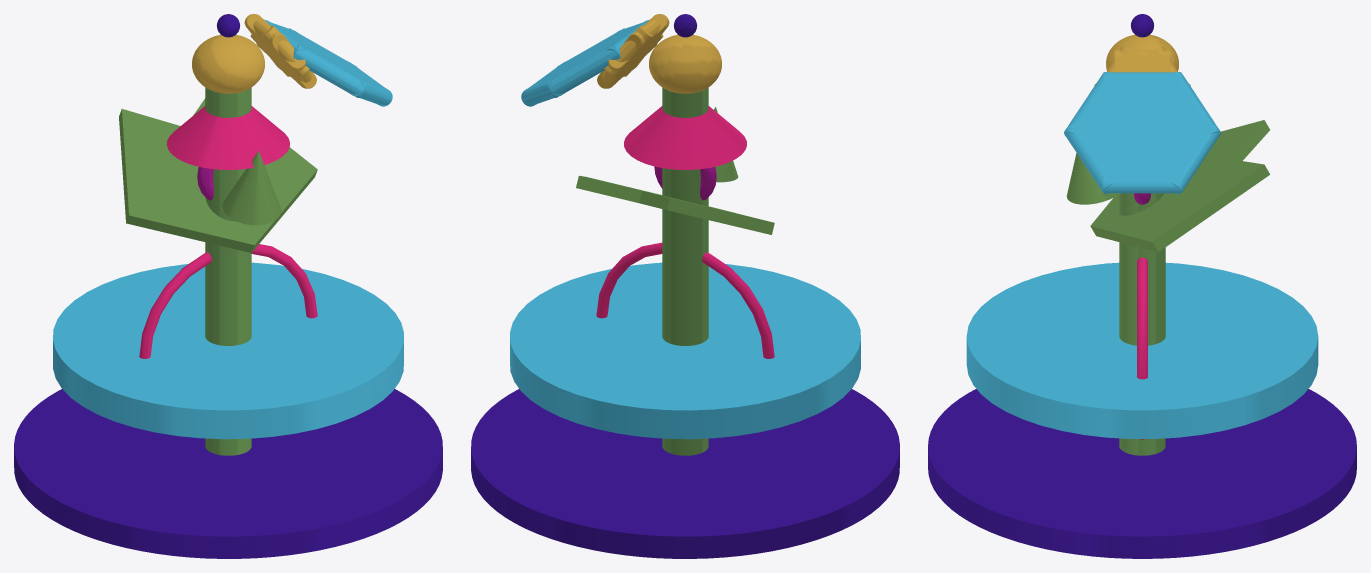
The model's file is 0092_植物图鉴_蔷薇.glb.
The picture shows the model from 3 angles, left to right: view 1: azimuth 30°, elevation 25°; view 2: azimuth 150°, elevation 25°; view 3: azimuth 270°, elevation 25°; orthographic projection.
Parts seen in each view (by area): view 1: card_0092; view 2: card_0092; view 3: card_0092.
Boxes of the visible parts, bbox=[...] form: card_0092: bbox=[14, 14, 442, 558]; card_0092: bbox=[471, 14, 899, 558]; card_0092: bbox=[928, 14, 1356, 558].
Bounding box in the file's own units: 0.8577 × 1 × 0.8577.
